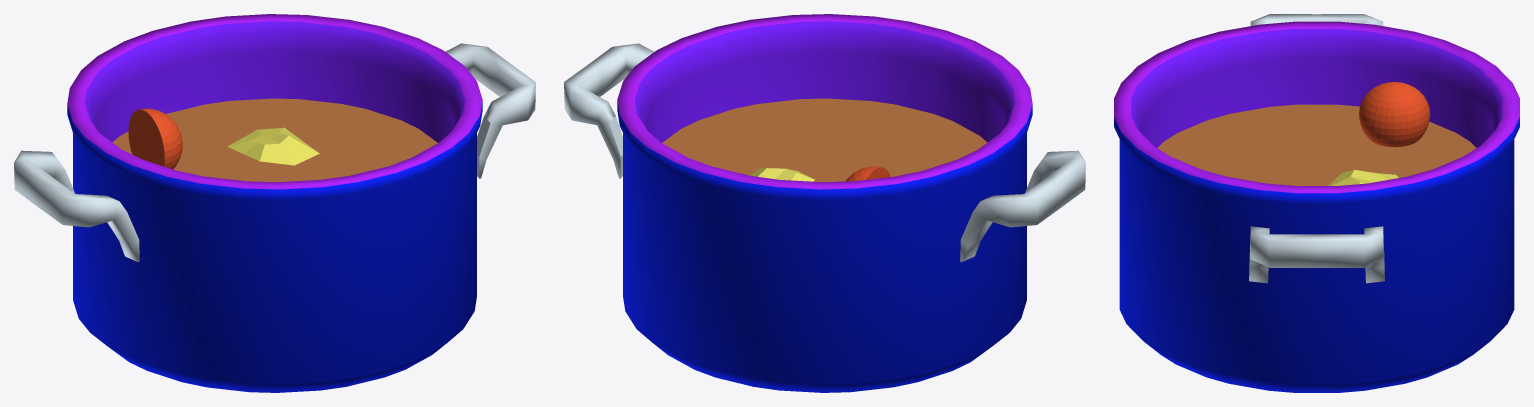
File: BacalaoChopped.fbx
3 views of the same model, side by side, from view 1: azimuth 30°, elevation 25°; view 2: azimuth 150°, elevation 25°; view 3: azimuth 270°, elevation 25° (orthographic).
Parts seen in each view (by area): view 1: Body, Soup, Handles, Sphere.001, PotatoChopped; view 2: Body, Soup, Handles, PotatoChopped, Sphere.001; view 3: Body, Soup, Handles, Sphere.001, PotatoChopped.
Part boxes in pixels (bbox=[...]): Body: bbox=[67, 14, 482, 392]; Soup: bbox=[112, 98, 437, 182]; Handles: bbox=[14, 43, 535, 261]; Sphere.001: bbox=[128, 108, 182, 169]; PotatoChopped: bbox=[227, 127, 319, 165]; Body: bbox=[617, 14, 1032, 392]; Soup: bbox=[662, 98, 987, 182]; Handles: bbox=[564, 43, 1085, 261]; PotatoChopped: bbox=[750, 167, 814, 181]; Sphere.001: bbox=[845, 166, 890, 181]; Body: bbox=[1114, 21, 1519, 392]; Soup: bbox=[1157, 104, 1476, 185]; Handles: bbox=[1249, 14, 1384, 283]; Sphere.001: bbox=[1359, 82, 1430, 147]; PotatoChopped: bbox=[1328, 169, 1398, 185].
Size of the model in its own units: 83.38 by 35.99 by 62.94.
